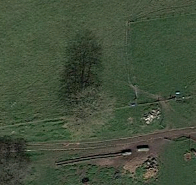tree: (56, 82, 124, 139), (1, 134, 41, 182)
